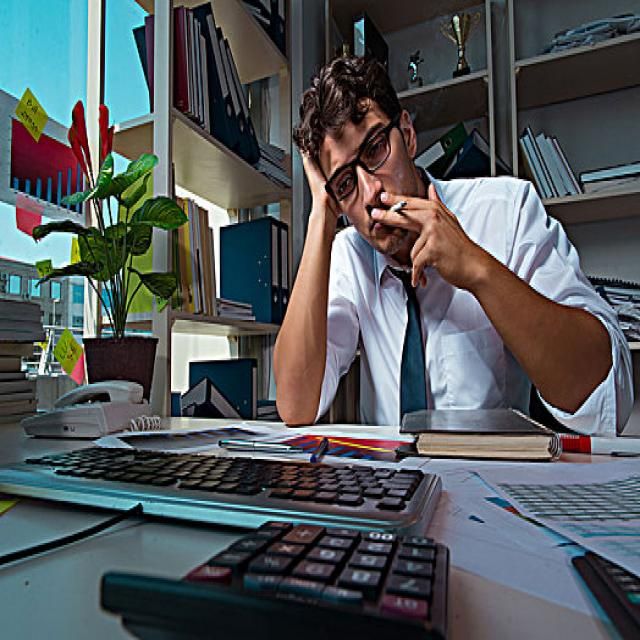smoke: (390, 192, 410, 227)
